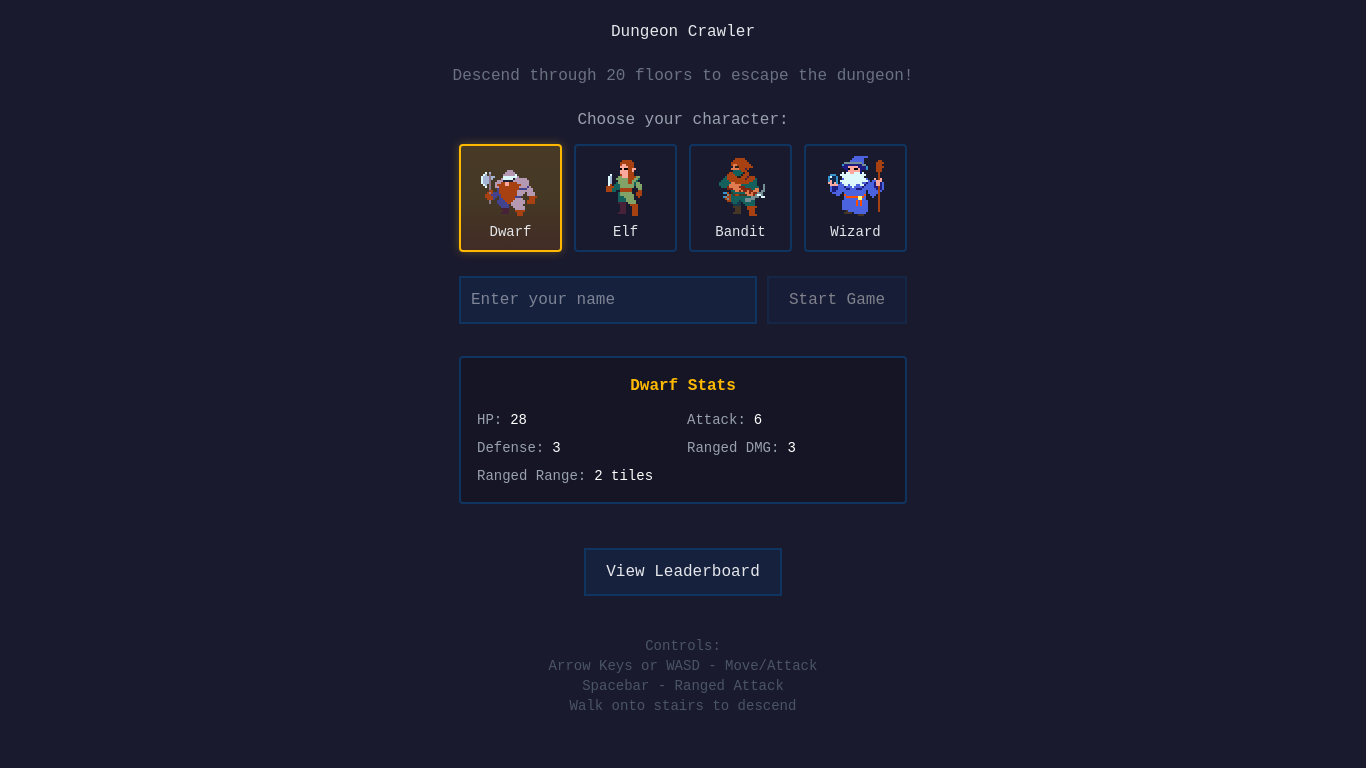
Test case: browser gameplay smoke test › creates, moves, attacks, descends, and finishes through HTTP actions
Type "Ada" into the field at (608, 300), box x1=459 y1=276 x2=757 y2=324
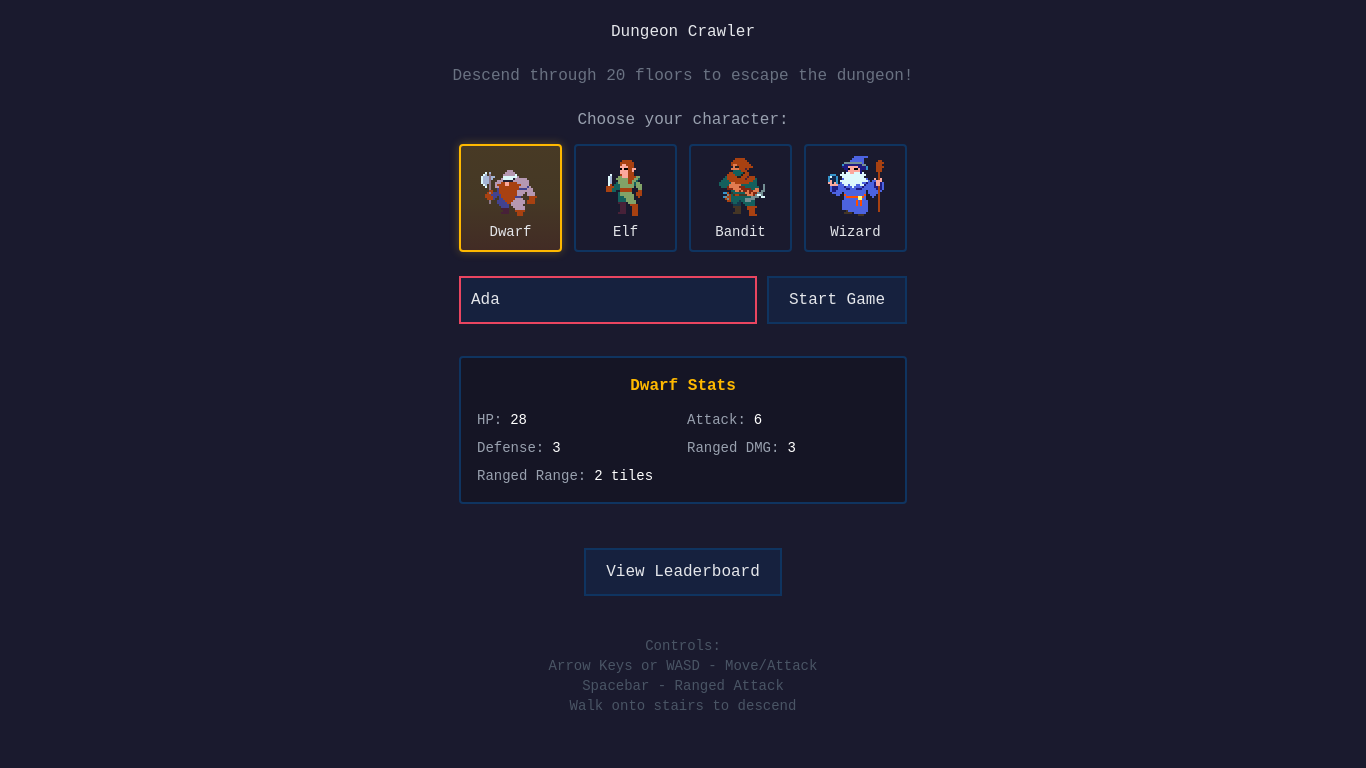
Click the button "Start Game" at (837, 300), box x1=767 y1=276 x2=907 y2=324
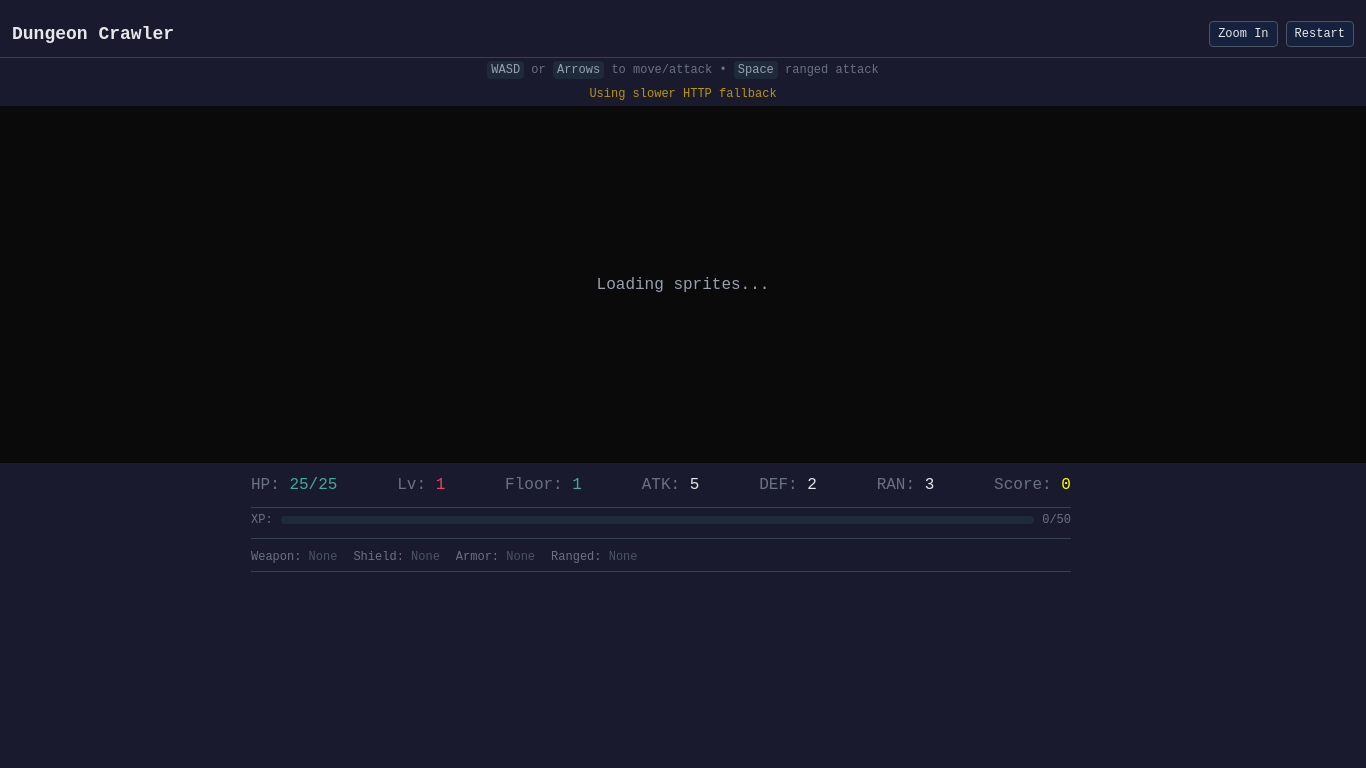
Press ArrowRight in the element named "Dungeon Crawler game"
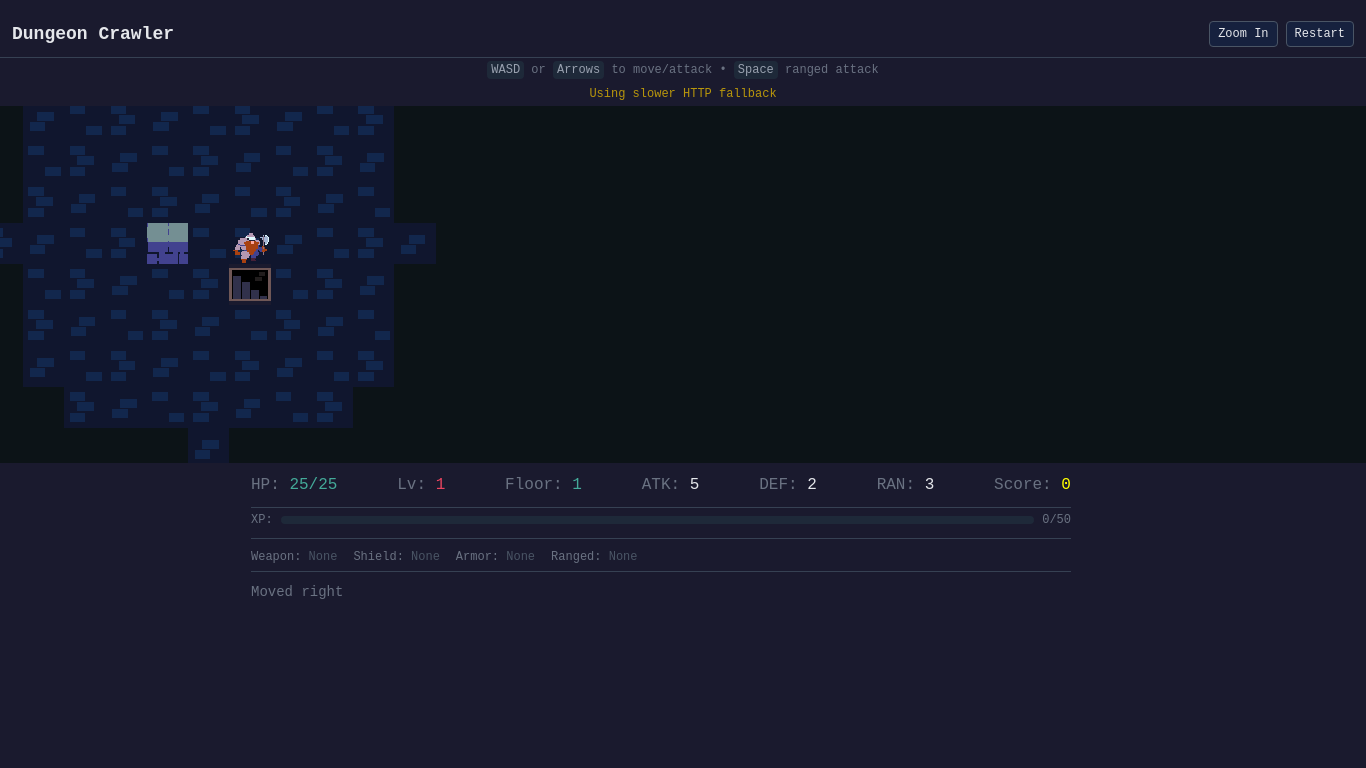
Press Space in the element named "Dungeon Crawler game"
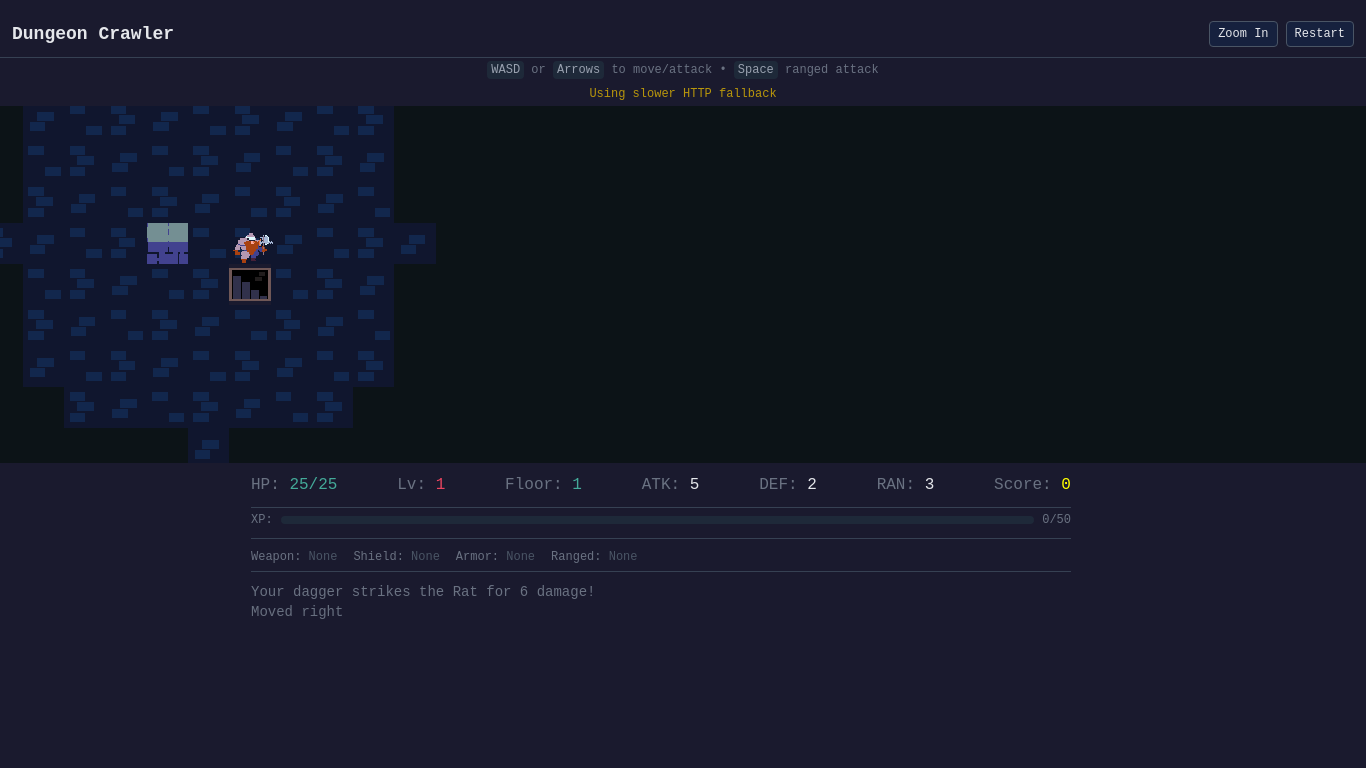
Press ArrowRight in the element named "Dungeon Crawler game"
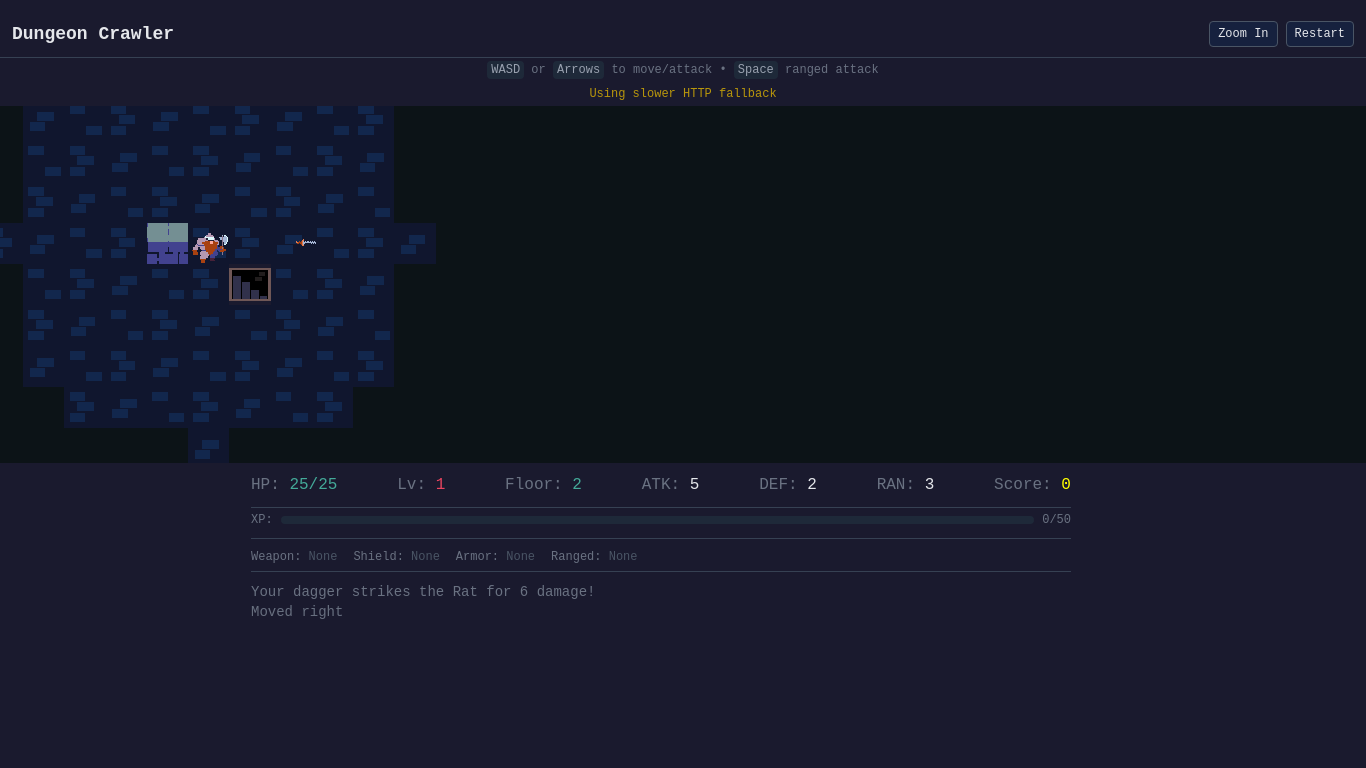
Press ArrowRight in the element named "Dungeon Crawler game"
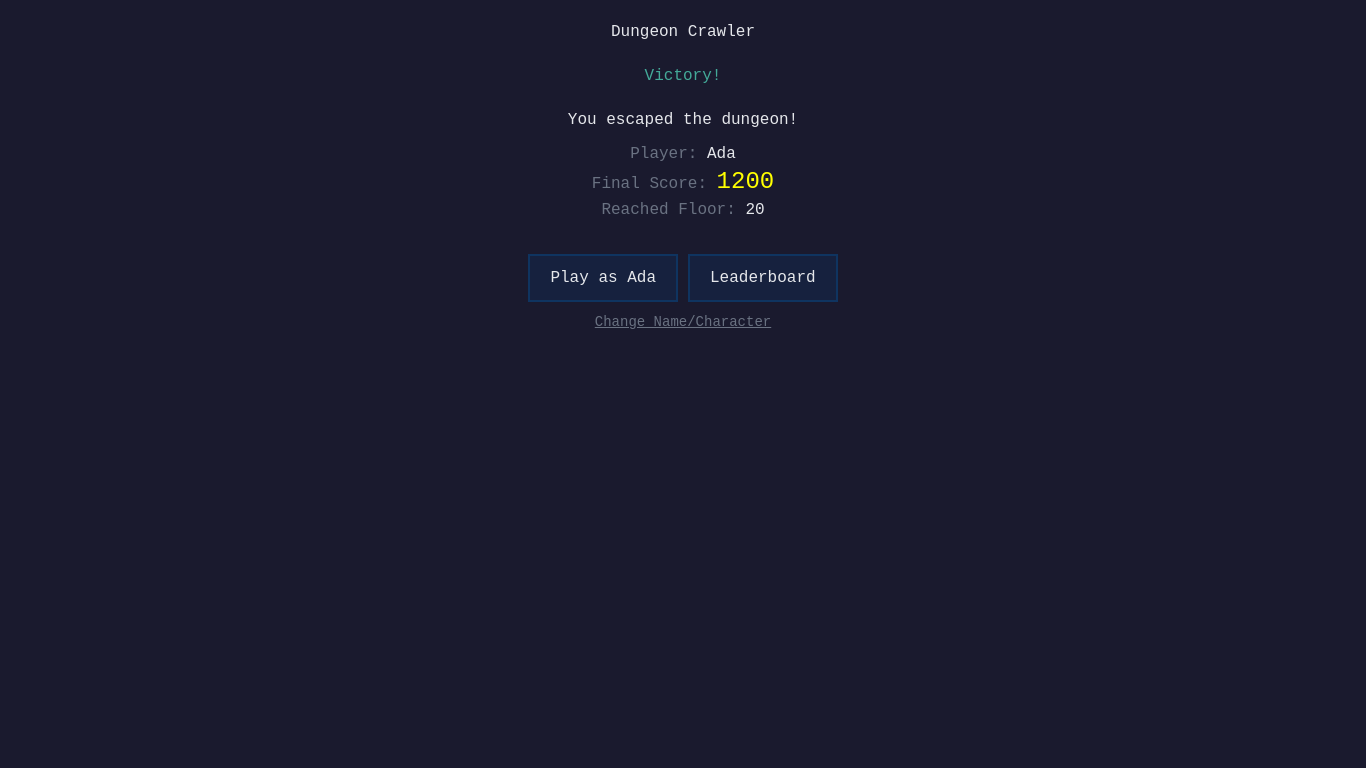
Check: the heading "Victory!" is shown, box x1=645 y1=67 x2=721 y2=85
Check: the text "You escaped the dungeon!" is shown, box x1=568 y1=111 x2=798 y2=129
